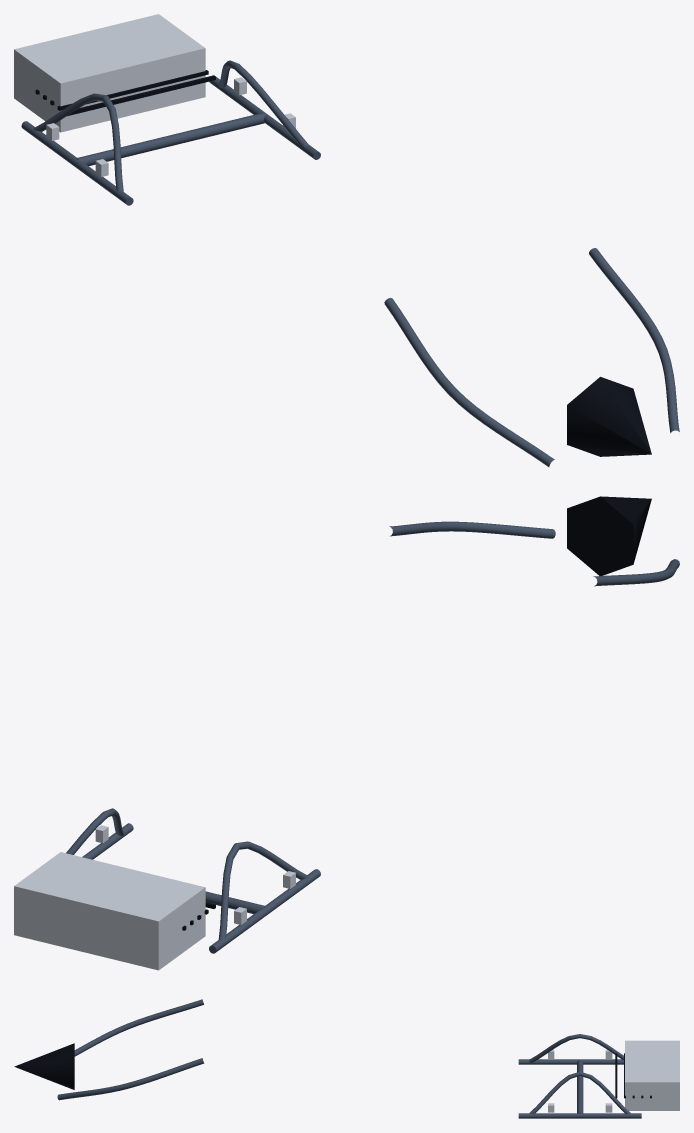
File: spaceframe_subframes.glb
3 views of the same model, one above another, from view 1: azimuth 30°, elevation 25°; view 2: azimuth 150°, elevation 25°; view 3: azimuth 270°, elevation 25° (orthographic). The views are drawn at different scales.
Visible parts, largest first — view 1: Front_Chromoly_Subframe_Cradle, Rear_Engine_Cradle_Subframe; view 2: Front_Chromoly_Subframe_Cradle, Rear_Engine_Cradle_Subframe; view 3: Front_Chromoly_Subframe_Cradle, Rear_Engine_Cradle_Subframe.
Part boxes in pixels (x1=…): Front_Chromoly_Subframe_Cradle: x1=14, y1=14, x2=320, y2=205; Rear_Engine_Cradle_Subframe: x1=384, y1=248, x2=679, y2=467; Front_Chromoly_Subframe_Cradle: x1=14, y1=808, x2=320, y2=970; Rear_Engine_Cradle_Subframe: x1=389, y1=496, x2=679, y2=586; Front_Chromoly_Subframe_Cradle: x1=518, y1=1034, x2=679, y2=1118; Rear_Engine_Cradle_Subframe: x1=14, y1=999, x2=204, y2=1100.
Size of the model in its own units: 1.03 by 0.4798 by 4.6.
